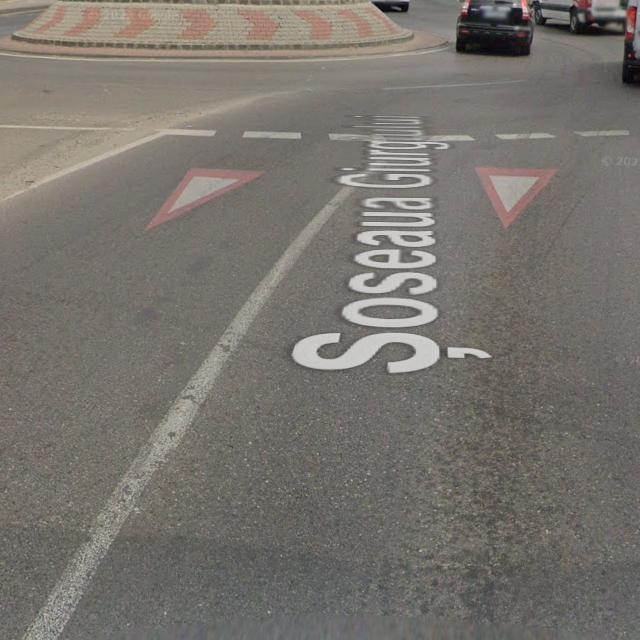prio_give_way: (147, 165, 265, 230), (477, 166, 559, 230)
